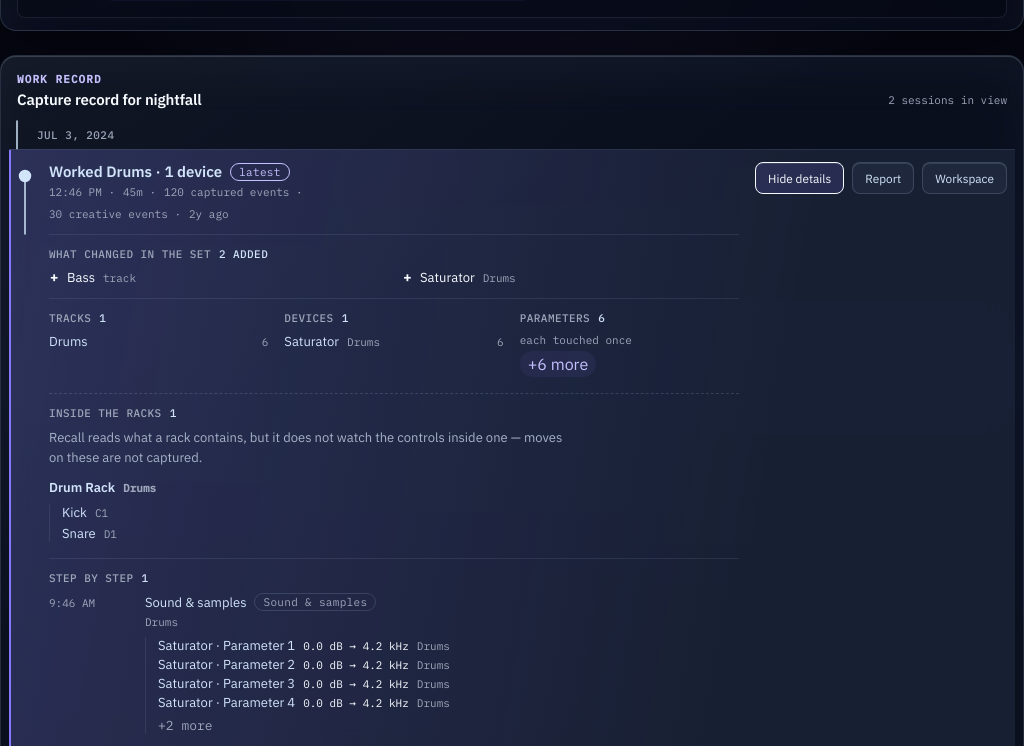
it: ProjectHistoryScreen · the loaded panel › reveals the named items behind a counted tail
The width and height of the screenshot is (1024, 746).
(page scrolled)
What coordinates should you click on to do the following:
click the button "+6 more"
I would click on:
 (558, 364)
Its box is top-left (520, 351), bottom-right (596, 377).
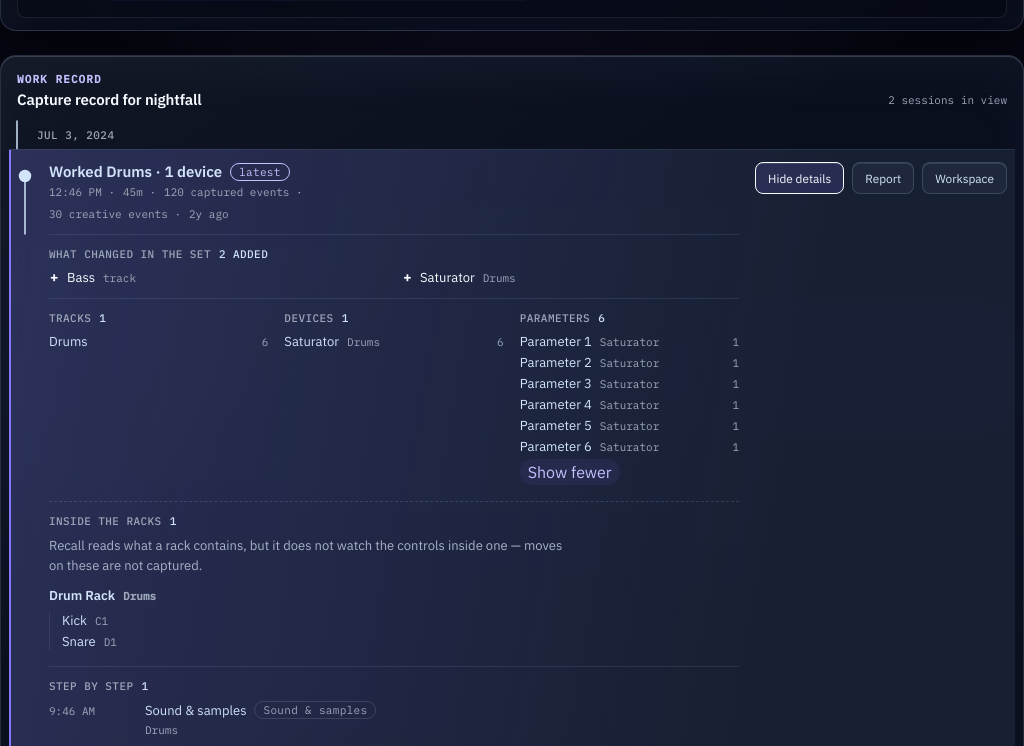
Now the button "Show fewer" is expanded, box top-left (520, 459), bottom-right (620, 485)
Now the text "Parameter 6" is shown, box top-left (520, 438), bottom-right (592, 455)
